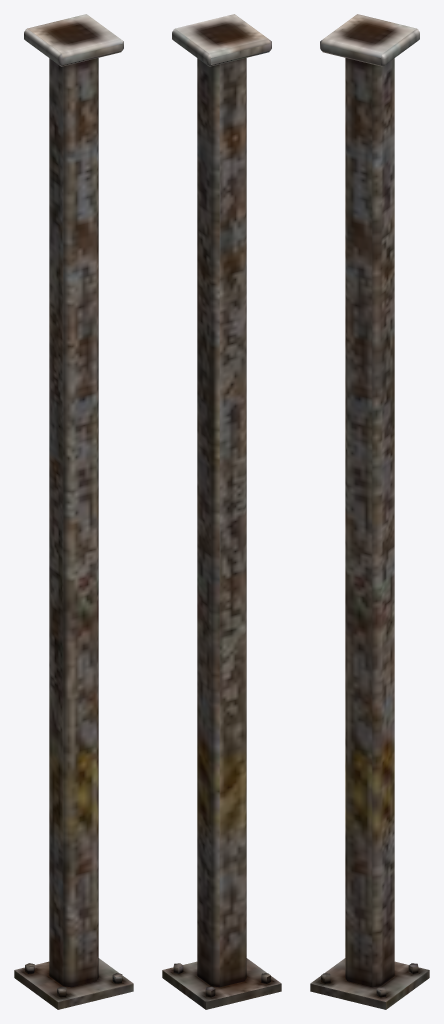
The model's file is marquise_coluna.glb.
3 renders of one model, left to right at view 1: azimuth 30°, elevation 25°; view 2: azimuth 210°, elevation 25°; view 3: azimuth 330°, elevation 25°, orthographic.
Parts seen in each view (by area): view 1: marquise_coluna; view 2: marquise_coluna; view 3: marquise_coluna.
Boxes of the visible parts, x1=… form: marquise_coluna: x1=14, y1=14, x2=133, y2=1009; marquise_coluna: x1=162, y1=14, x2=281, y2=1009; marquise_coluna: x1=310, y1=14, x2=429, y2=1009.
Size of the model in its own units: 0.3 by 3.6 by 0.3.
1 material, 1 textured.
